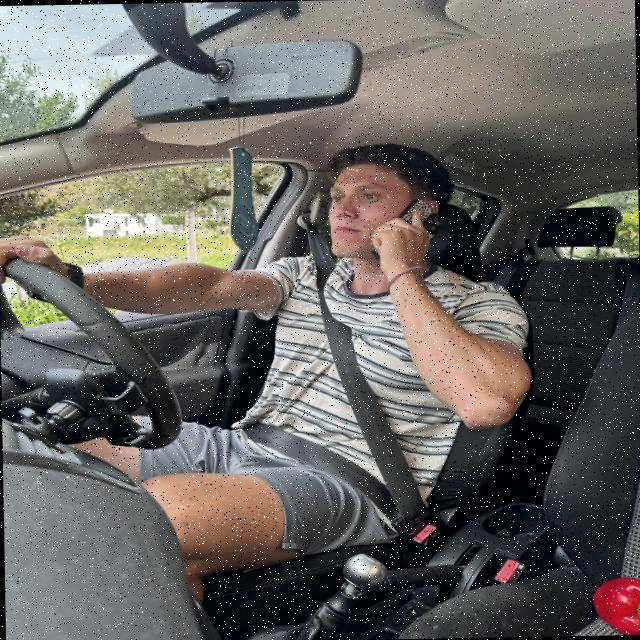Phone: (374, 192, 462, 258)
Seatbelt: (296, 217, 432, 532)
